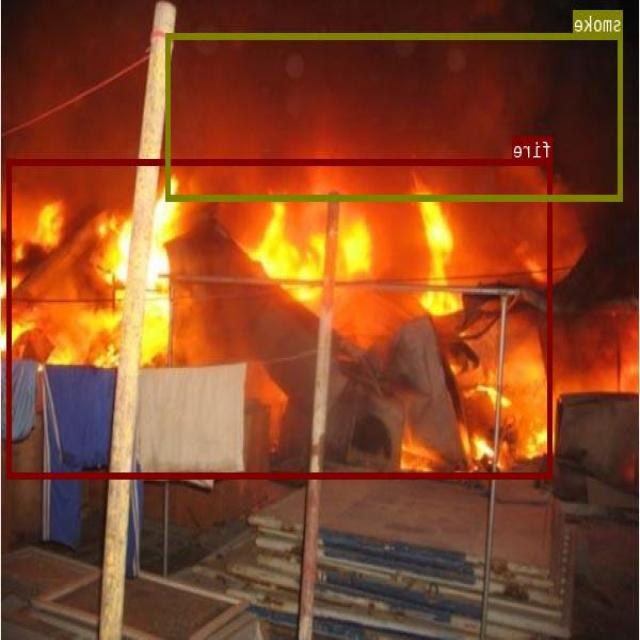fire: (8, 159, 552, 477)
smoke: (167, 32, 624, 199)
